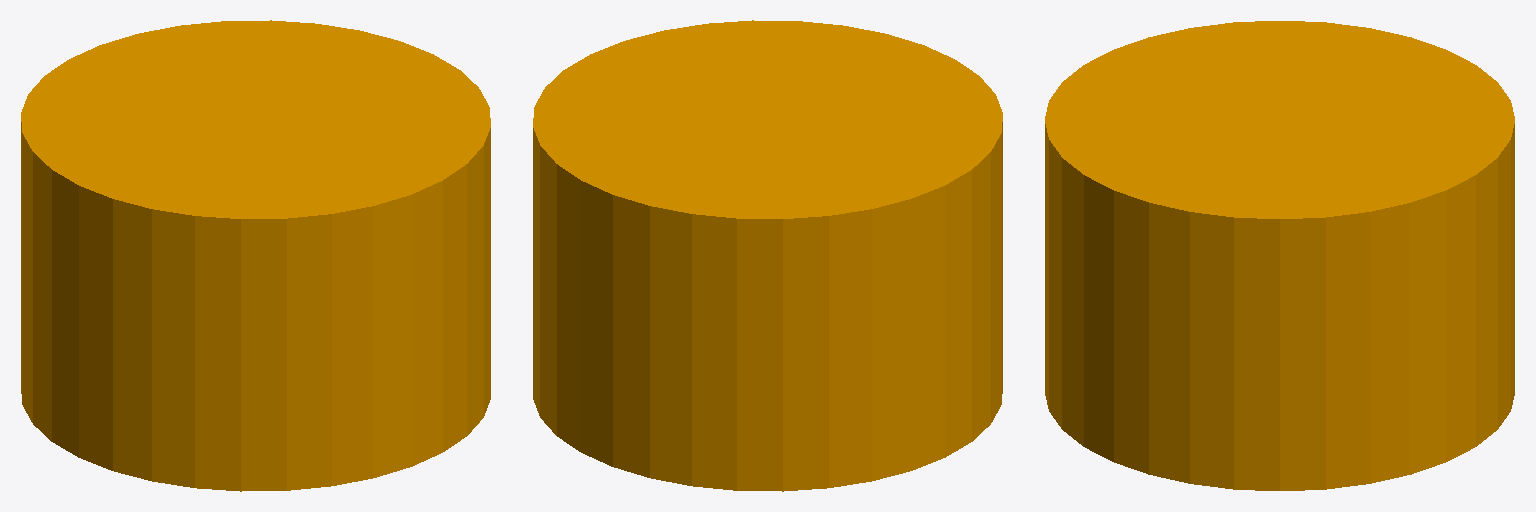
URDF robot description (pusher):
<?xml version="1.0"?>
<robot name="pusher">
  <link name="pusher_base_link">
    <contact>
      <lateral_friction value="0.25"/>
    </contact>
    <inertial>
      <origin rpy="0 0 0" xyz="0 0 0"/>
      <mass value="0.8"/>
      <inertia ixx="1e-3" ixy="0" ixz="0" iyx="0" iyy="1e-3" iyz="0" izx="0" izy="0" izz="0.001231"/>
    </inertial>
    <visual>
      <origin rpy="0 0 0" xyz="0 0 0"/>
      <geometry>
        <!-- <mesh filename="meshes/tool.stl"/> -->
        	<cylinder length="0.01275" radius="0.010"/>
      </geometry>
      <material name="Grey"/>
    </visual>
    <collision>
      <origin rpy="0 0 0" xyz="0 0 0"/>
      <geometry>
        <!-- <mesh filename="meshes/tool.stl"/> -->
        	<cylinder length="0.01275" radius="0.010"/>
      </geometry>
      <material name="Grey"/>
    </collision>
  </link>
</robot>

--- What the picture shows (computed from the rendered views, not written in the file) ---
Views: 3 orthographic renders of the robot side by side, from view 1: azimuth 30°, elevation 25°; view 2: azimuth 150°, elevation 25°; view 3: azimuth 270°, elevation 25°.
Robot: pusher — 1 links, 0 joints (none); root link pusher_base_link; default pose: all joints at 0.
Visible links, largest first — view 1: pusher_base_link; view 2: pusher_base_link; view 3: pusher_base_link.
Boxes of the visible links, bbox=[...] form: pusher_base_link: bbox=[21, 20, 490, 491]; pusher_base_link: bbox=[533, 20, 1002, 491]; pusher_base_link: bbox=[1045, 21, 1514, 490].
Bounding box of the posed robot: 0.02 × 0.02 × 0.0127 m (x, y, z).
Geometry: primitives only (box / cylinder / sphere), no mesh files.